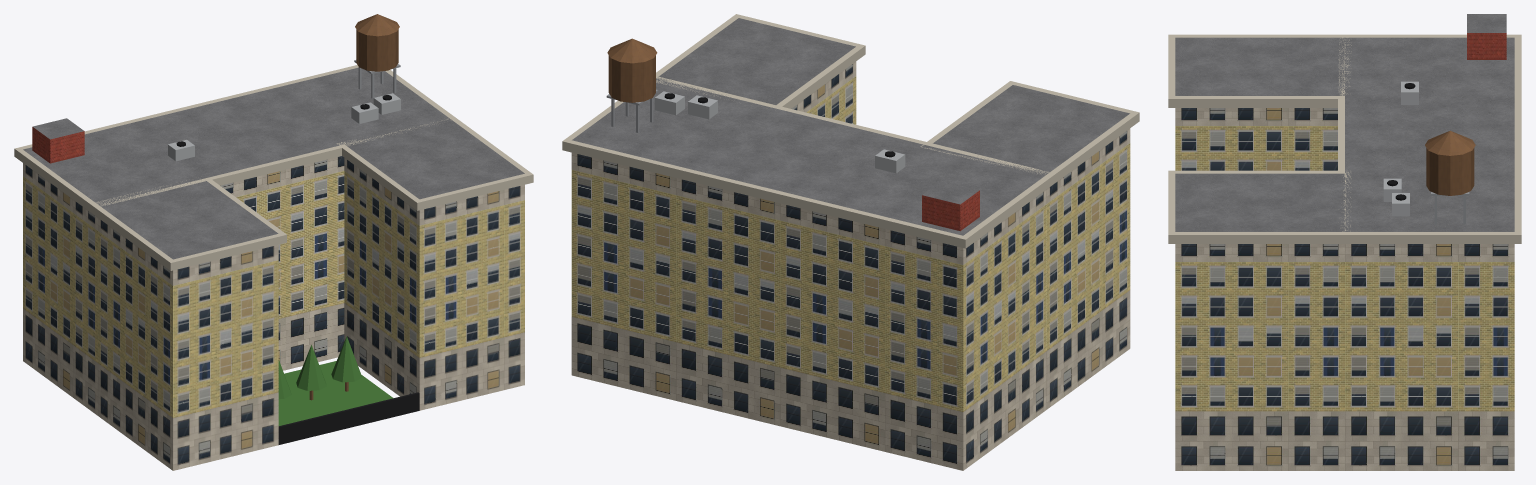
File: 020_courtyard_limestone.glb
3 renders of one model, left to right at view 1: azimuth 30°, elevation 25°; view 2: azimuth 150°, elevation 25°; view 3: azimuth 270°, elevation 25°, orthographic. The views are drawn at different scales.
Parts seen in each view (by area): view 1: 020_courtyard_limestone; view 2: 020_courtyard_limestone; view 3: 020_courtyard_limestone.
Boxes of the visible parts, x1,y1,x2,y2 form: 020_courtyard_limestone: (14,14,533,470); 020_courtyard_limestone: (562,14,1139,470); 020_courtyard_limestone: (1168,14,1521,470).
Bounding box in the file's own units: 47.4 × 36 × 35.4.
Materials: 11 (5 with a texture image).
